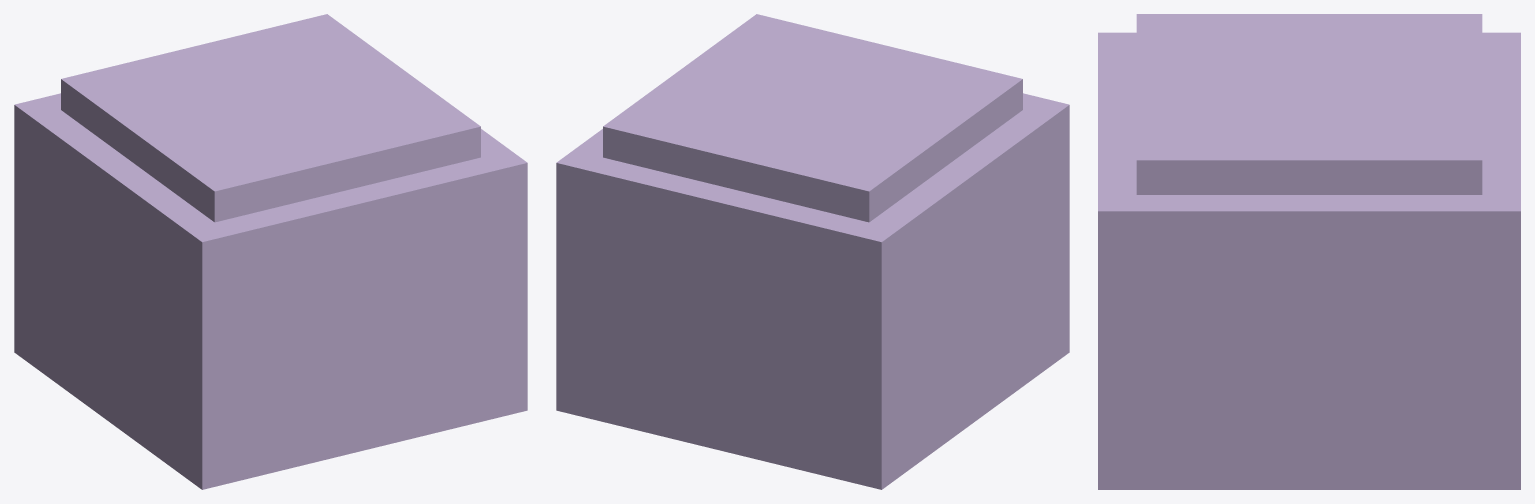
The model's file is item_rock.dae.
3 views of the same model, side by side, from view 1: azimuth 30°, elevation 25°; view 2: azimuth 150°, elevation 25°; view 3: azimuth 270°, elevation 25° (orthographic). The views are drawn at different scales.
Visible parts, largest first — view 1: item_rock; view 2: item_rock; view 3: item_rock.
Part boxes in pixels (box(x1,y1,x2,y2)): item_rock: box(14, 14, 527, 489); item_rock: box(556, 14, 1069, 489); item_rock: box(1098, 14, 1520, 489).
Bounding box in the file's own units: 1.1 × 0.9 × 1.1.
